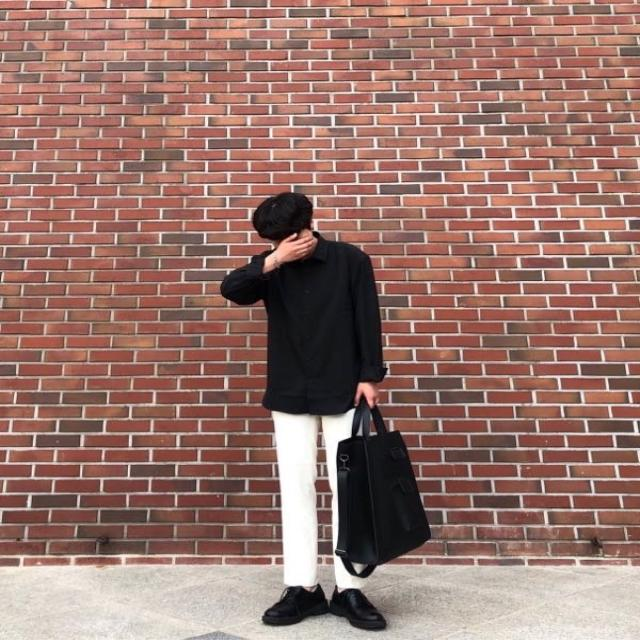shirt: (221, 232, 385, 416)
slacks: (275, 408, 365, 592)
